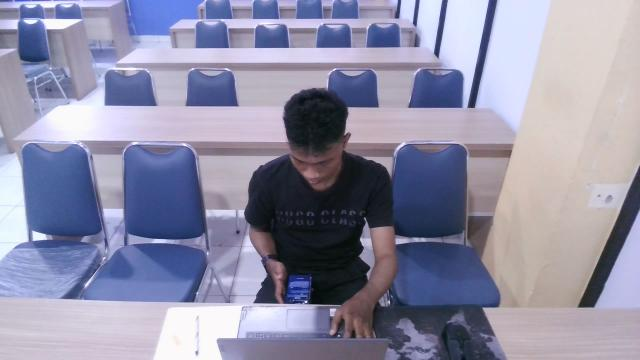Head_Down_Extreme: (229, 77, 415, 351)
Mobile_Phone: (283, 269, 316, 310)
